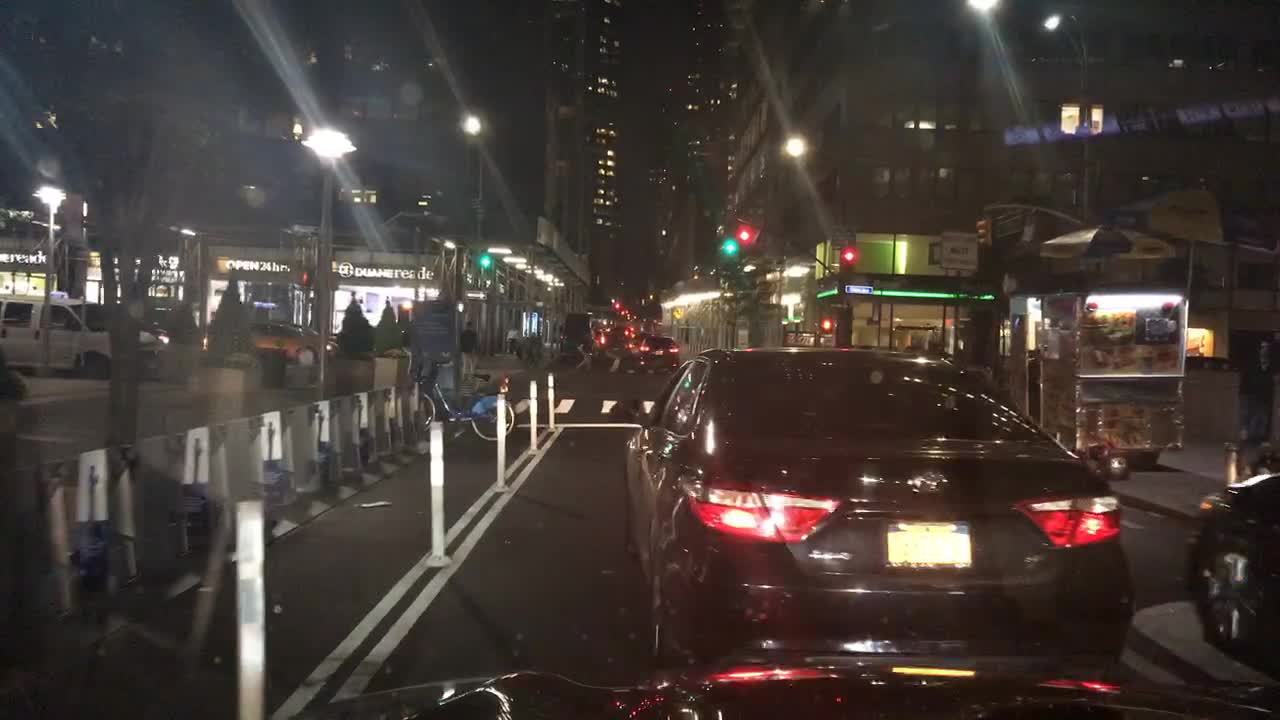bike: (409, 356, 515, 442)
car: (623, 345, 1136, 657), (1184, 468, 1279, 659), (0, 293, 167, 375), (248, 320, 340, 365), (559, 311, 604, 358), (635, 335, 681, 369), (963, 363, 995, 383), (623, 332, 648, 351), (613, 326, 635, 341), (594, 327, 613, 344)
person: (456, 319, 480, 382), (505, 323, 519, 355)
traffic light: (976, 218, 992, 245), (737, 225, 753, 244), (476, 252, 495, 268), (818, 316, 833, 334), (722, 240, 737, 255), (298, 269, 310, 286), (844, 249, 857, 264), (611, 301, 622, 310)
traffic sign: (941, 229, 980, 270), (464, 288, 488, 301), (672, 306, 683, 319)
truck: (1002, 287, 1189, 468)
